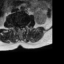CCS_severe_stenosis: (20, 24, 22, 30)
LFS_severe_stenosis: (24, 22, 26, 28)
LLS_severe_stenosis: (22, 23, 24, 28)
RFS_severe_stenosis: (16, 22, 18, 27)
RLS_severe_stenosis: (18, 23, 20, 28)
